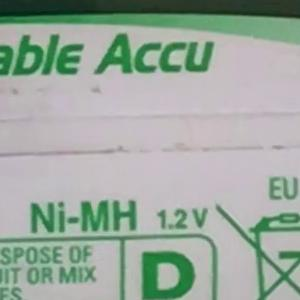keyword: (5, 191, 145, 251)
